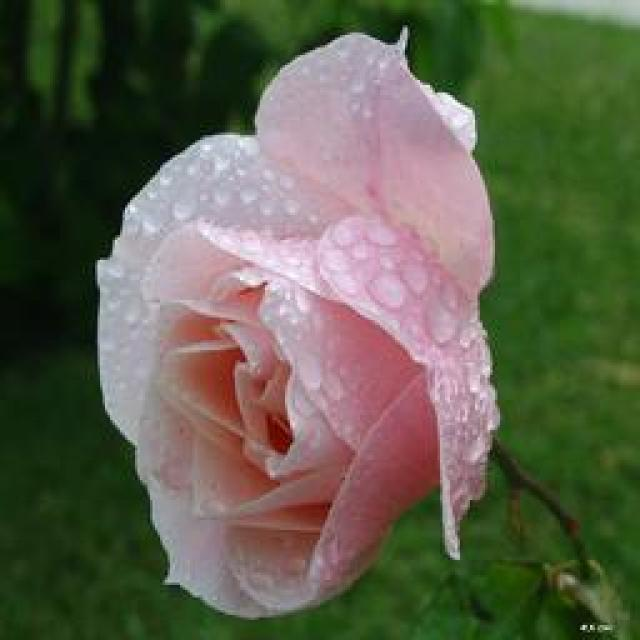rose: (59, 27, 590, 623)
